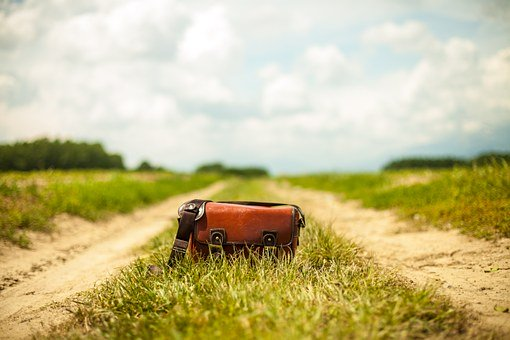field: (5, 151, 510, 340)
sky: (2, 2, 510, 153)
